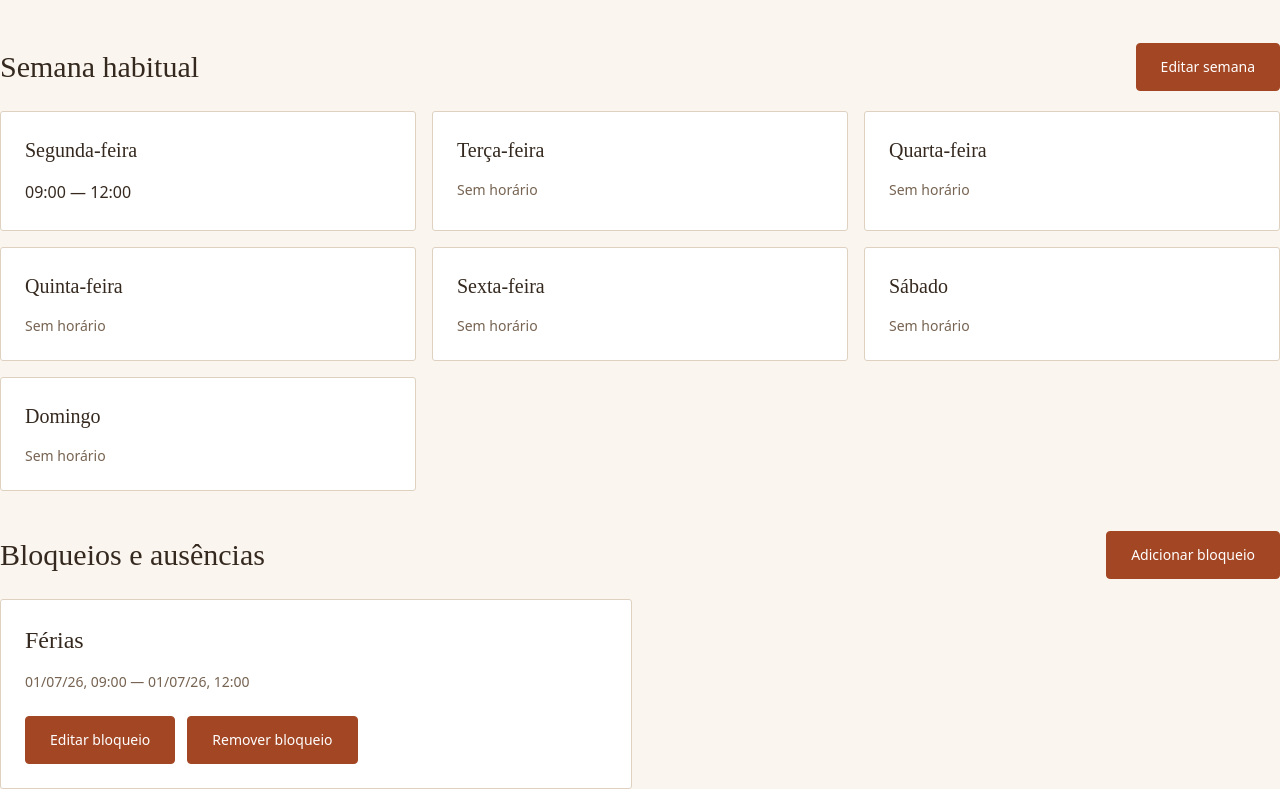
Test case: confirma remoção, impede fechar durante pedido e permite repetir falha
(page scrolled)
What coordinates should you click on to do the following:
click the button "Remover bloqueio"
I would click on:
 (272, 740)
Its box is [187,716,358,764].
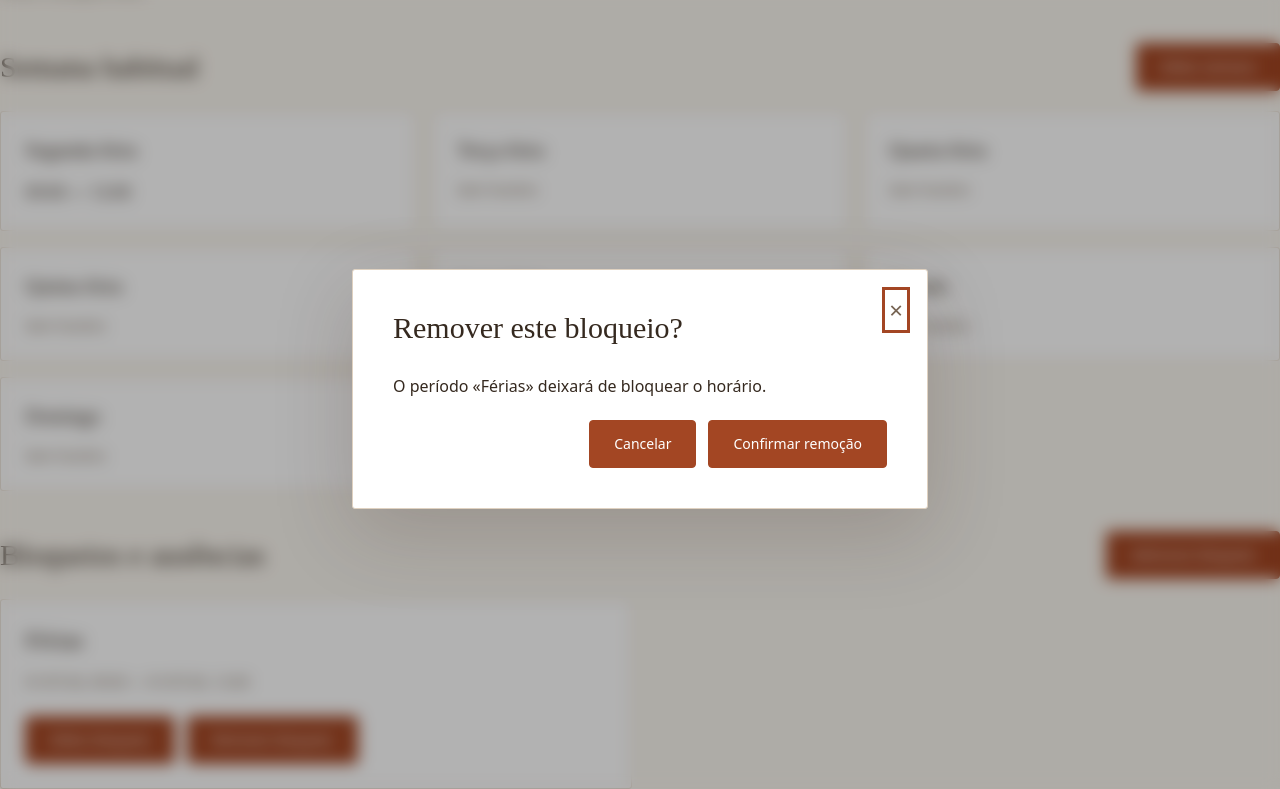
What coordinates should you click on to do the following:
click the button "Confirmar remoção"
I would click on:
 (798, 444)
Its box is [708,420,887,468].
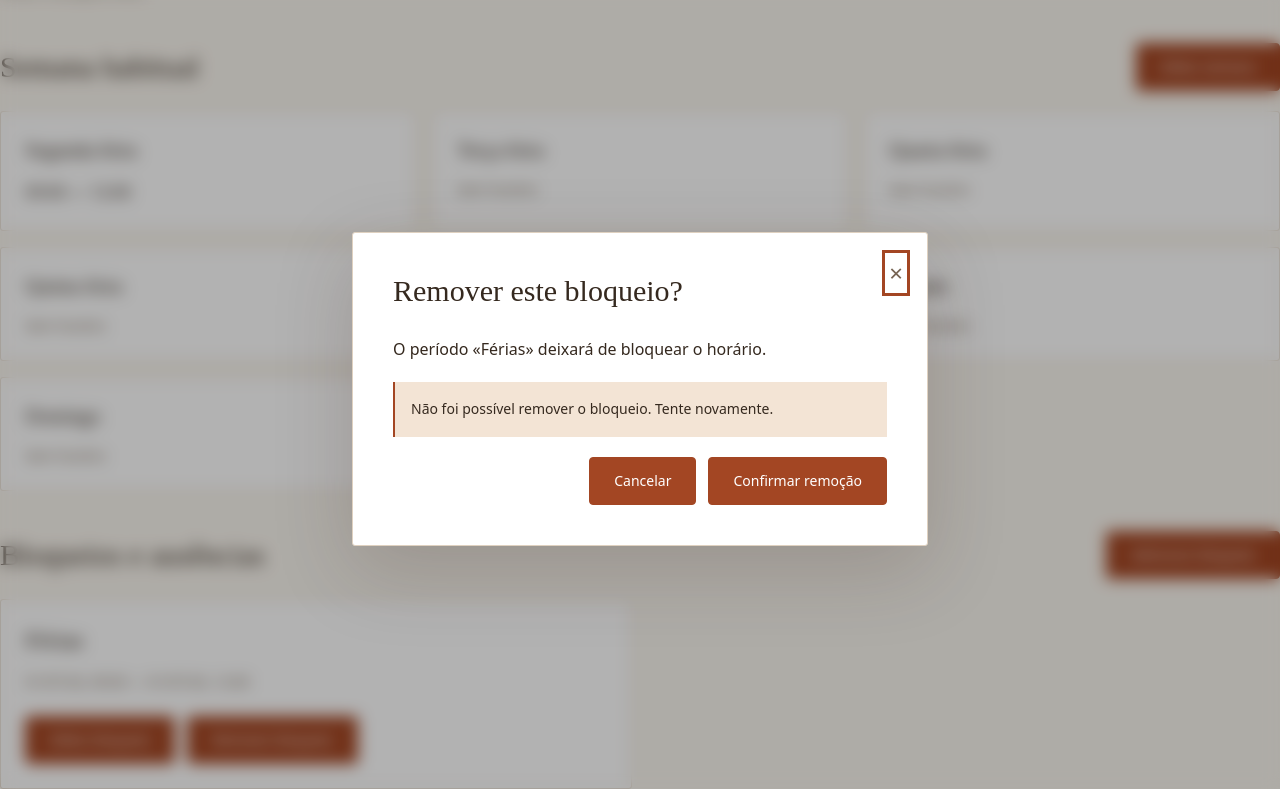
Expected: the message "Não foi possível remover o bloqueio. Tente novamente." is shown, [393,382,887,437]
What coordinates should you click on to do the following:
click the button "Confirmar remoção"
I would click on:
 (798, 481)
Its box is [708,457,887,505].
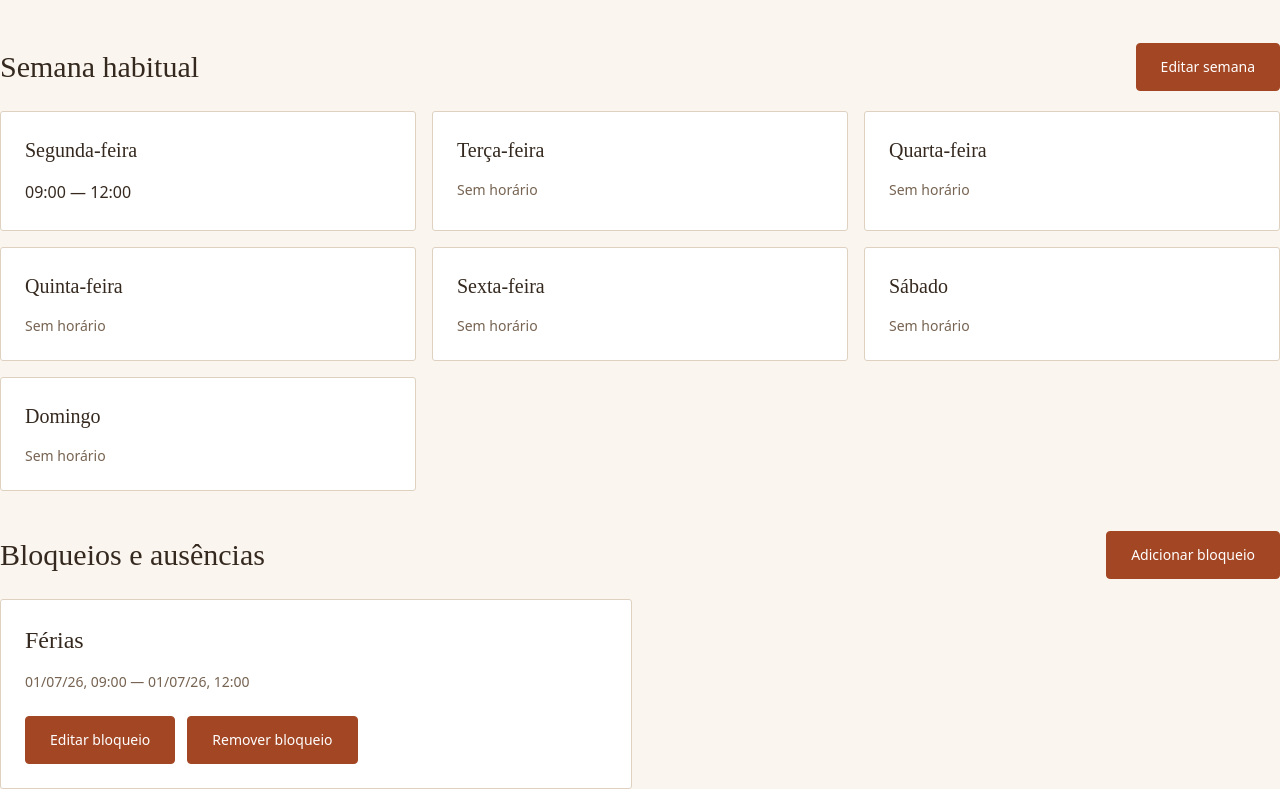
Expected: the dialog is gone
